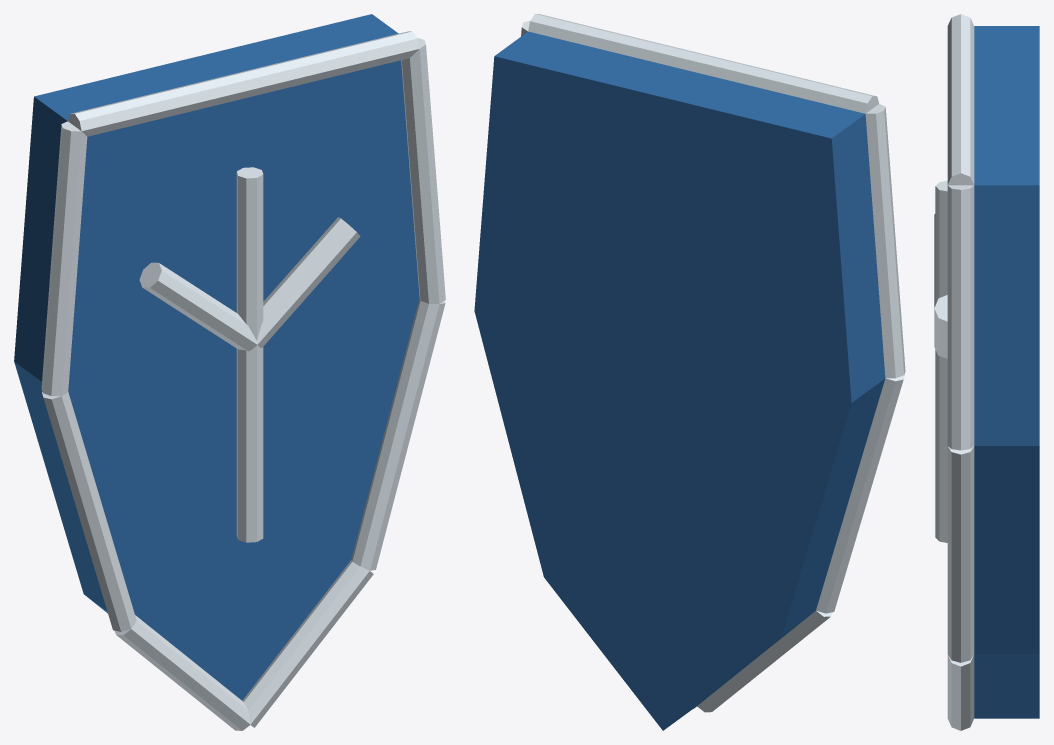
Rendered from shield.glb.
3 views of the same model, side by side, from view 1: azimuth 30°, elevation 25°; view 2: azimuth 150°, elevation 25°; view 3: azimuth 270°, elevation 25° (orthographic). The views are drawn at different scales.
Visible parts, largest first — view 1: Shield_BlueKite; view 2: Shield_BlueKite; view 3: Shield_BlueKite.
Part boxes in pixels (x1=…): Shield_BlueKite: x1=14, y1=14, x2=445, y2=730; Shield_BlueKite: x1=474, y1=14, x2=905, y2=730; Shield_BlueKite: x1=934, y1=14, x2=1039, y2=730.
Bounding box in the file's own units: 0.4039 × 0.6305 × 0.095.
